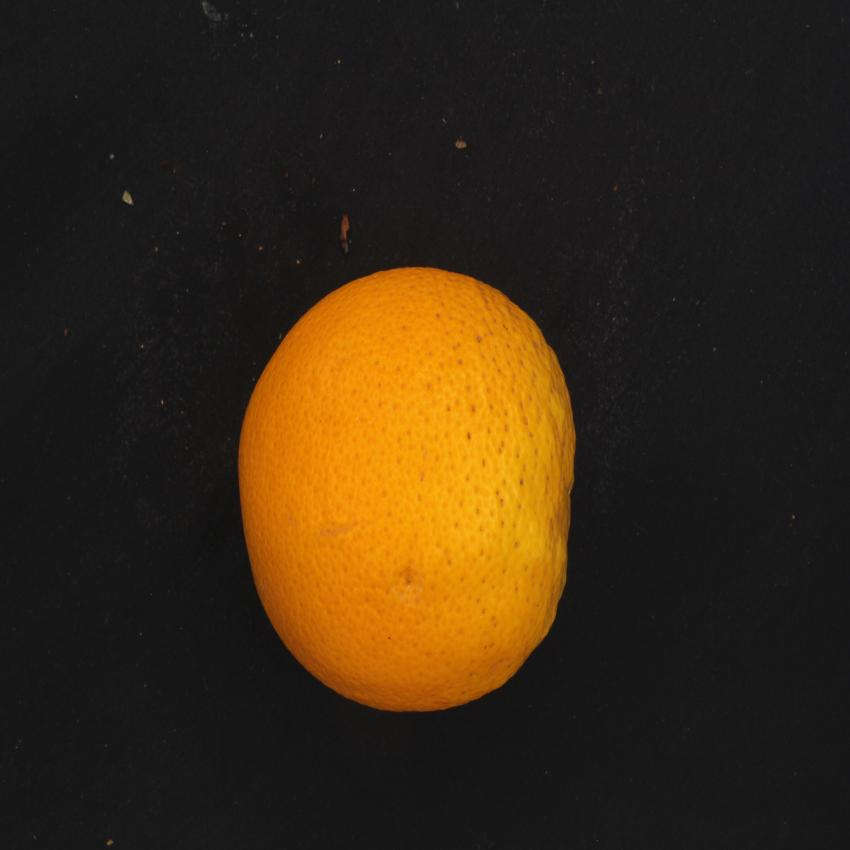Buen estado: (230, 257, 587, 719)
